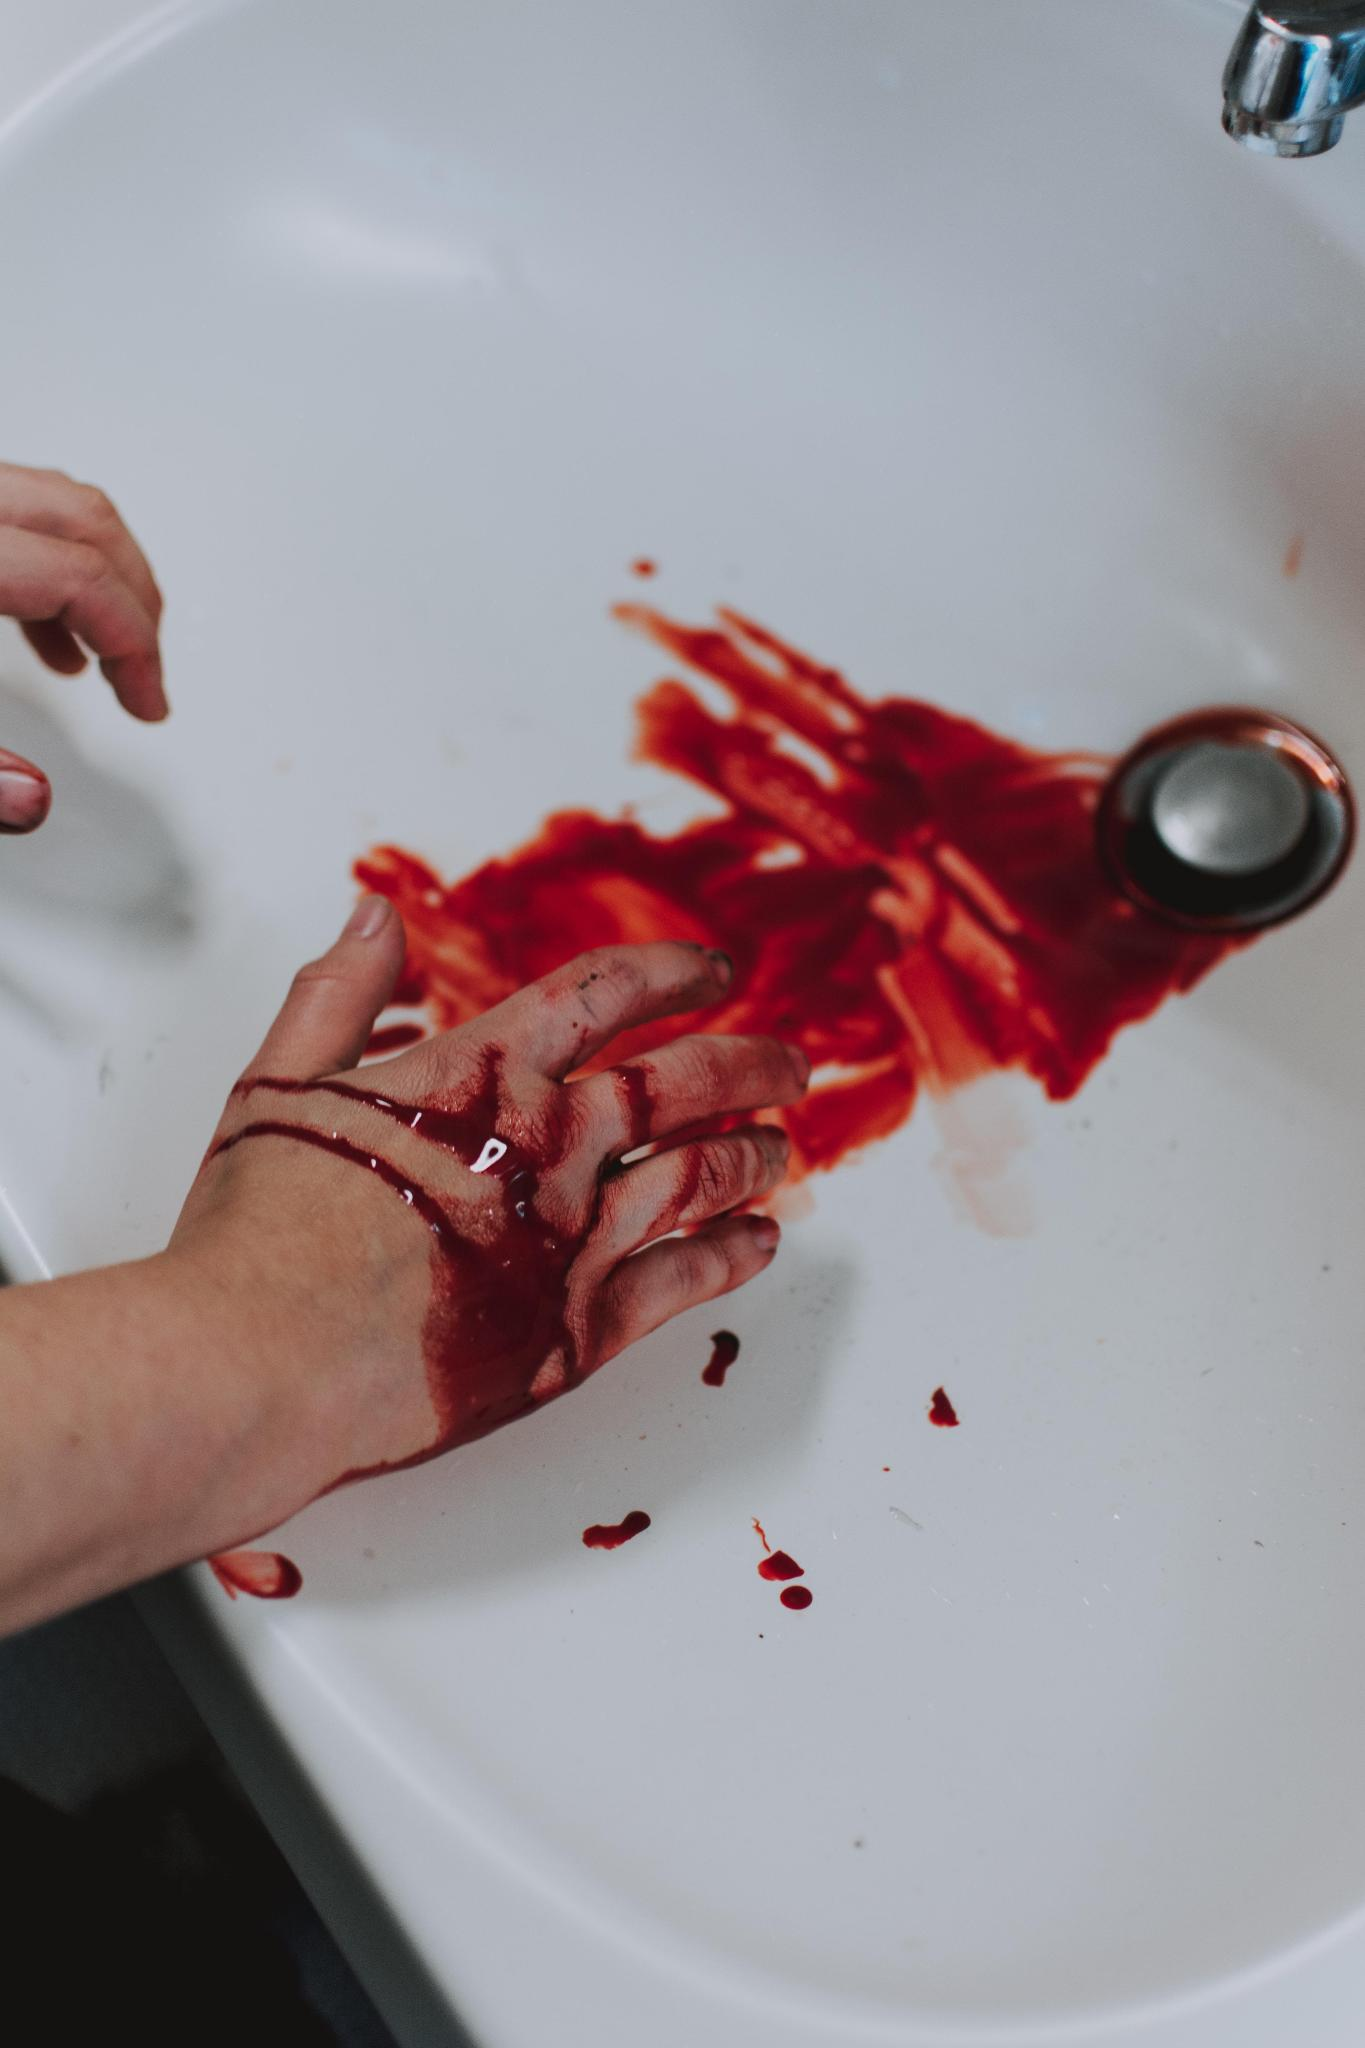Fire: (352, 605, 1255, 1182), (201, 1020, 804, 1451), (539, 941, 733, 1038), (204, 1552, 300, 1602), (580, 1512, 651, 1552), (701, 1332, 740, 1389), (757, 1553, 804, 1584), (929, 1387, 960, 1430), (780, 1587, 812, 1613), (753, 1521, 766, 1552)
